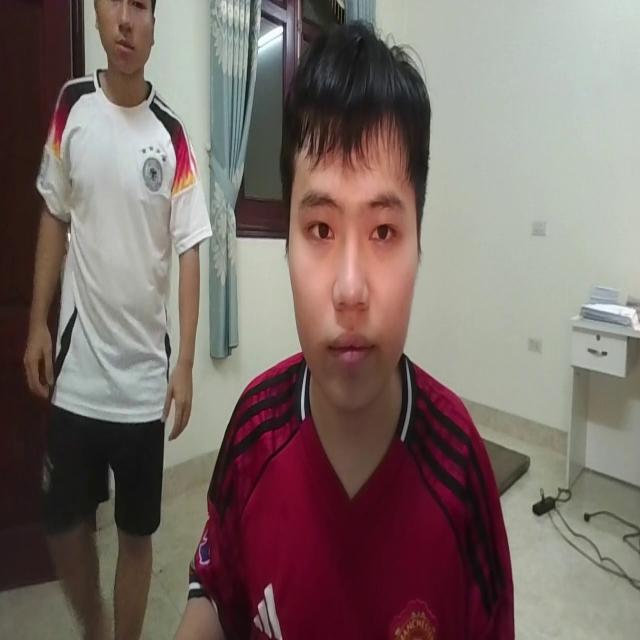extra_person: (18, 0, 197, 640)
student: (187, 17, 513, 640)
